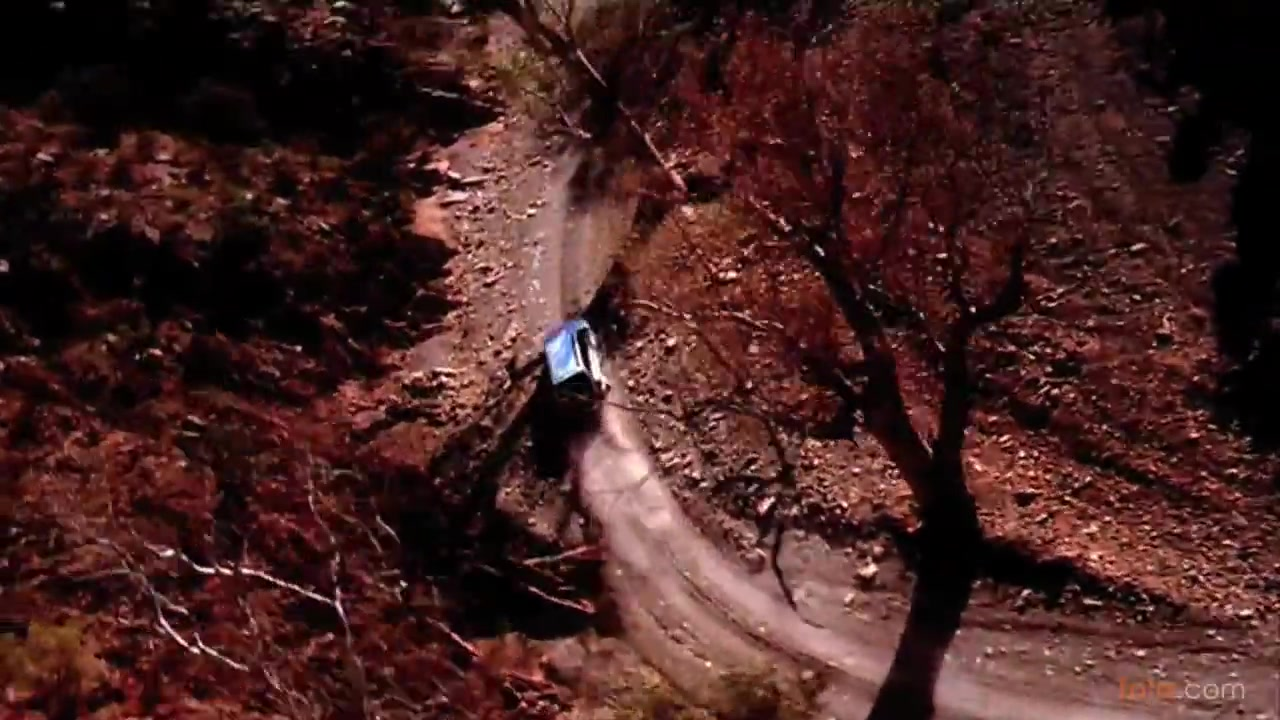car: (538, 317, 608, 411)
